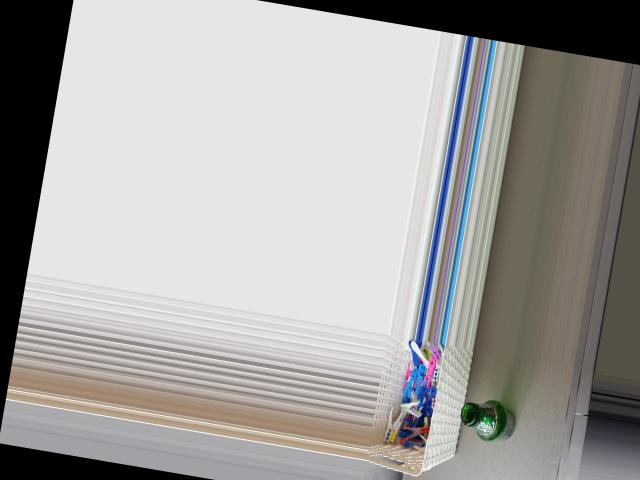beer: (457, 394, 519, 446)
